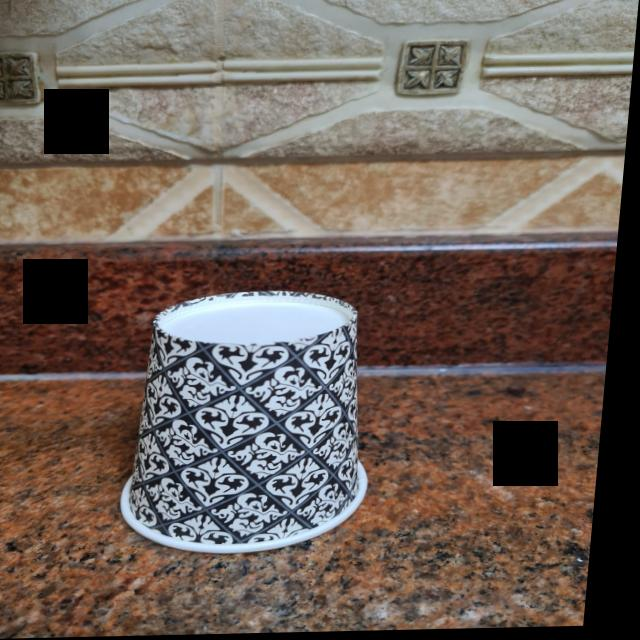cups: (120, 285, 393, 550)
